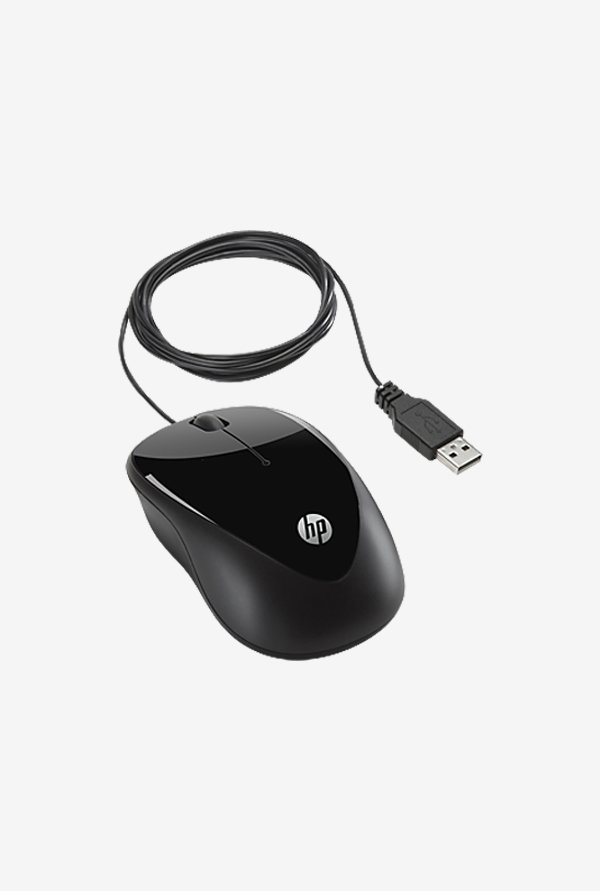hp-mouse-X1000: (94, 205, 514, 664)
